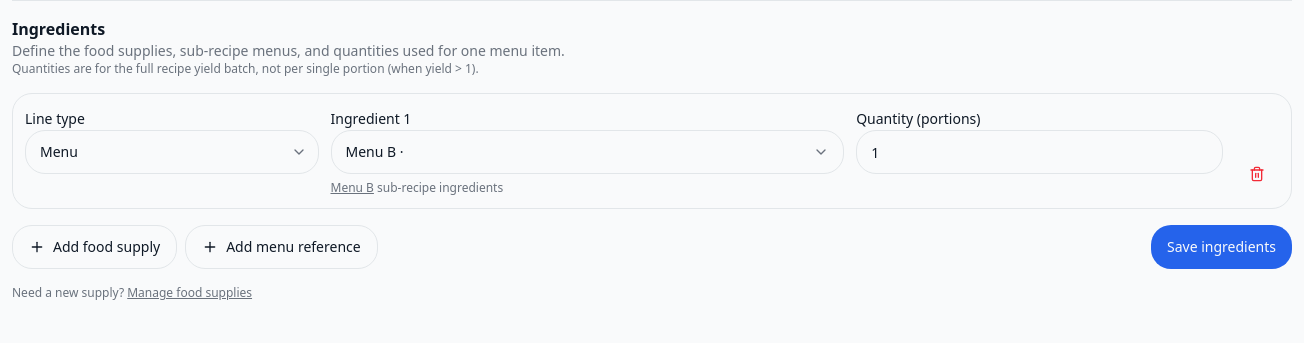
Test: MenuIngredientsForm › maps circular reference server errors onto menu rows
Expected: the button named "Ingredient 1" is shown, x1=330 y1=130 x2=844 y2=174
Click the button "Save ingredients".
click(1222, 247)  # box x1=1151 y1=225 x2=1292 y2=269
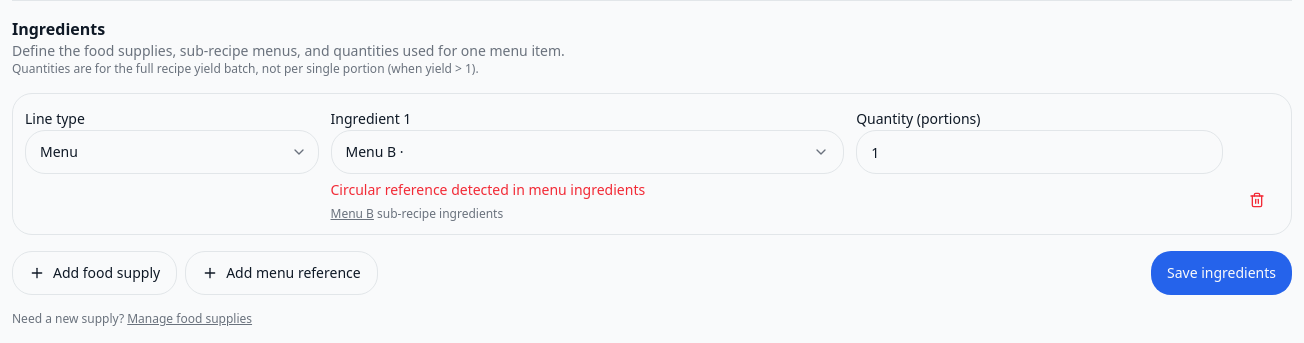
Expected: the text "Circular reference detected in menu ingredients" is shown, x1=330 y1=180 x2=645 y2=199
